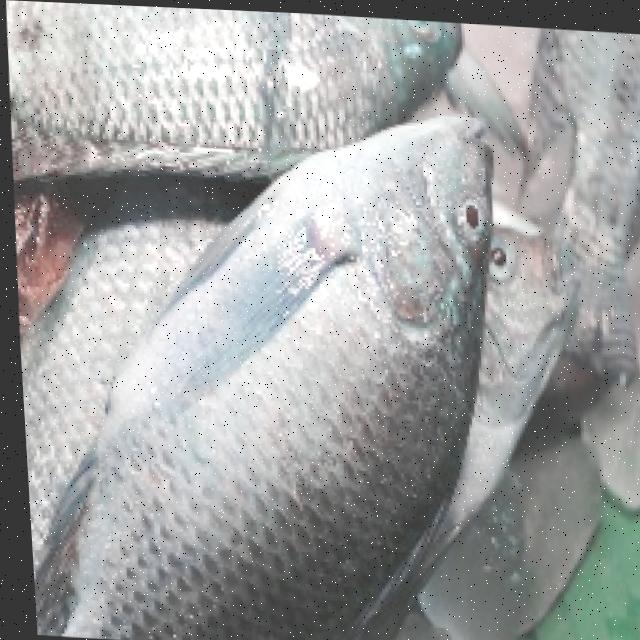Fresh: (140, 175, 507, 629), (436, 174, 493, 252)
